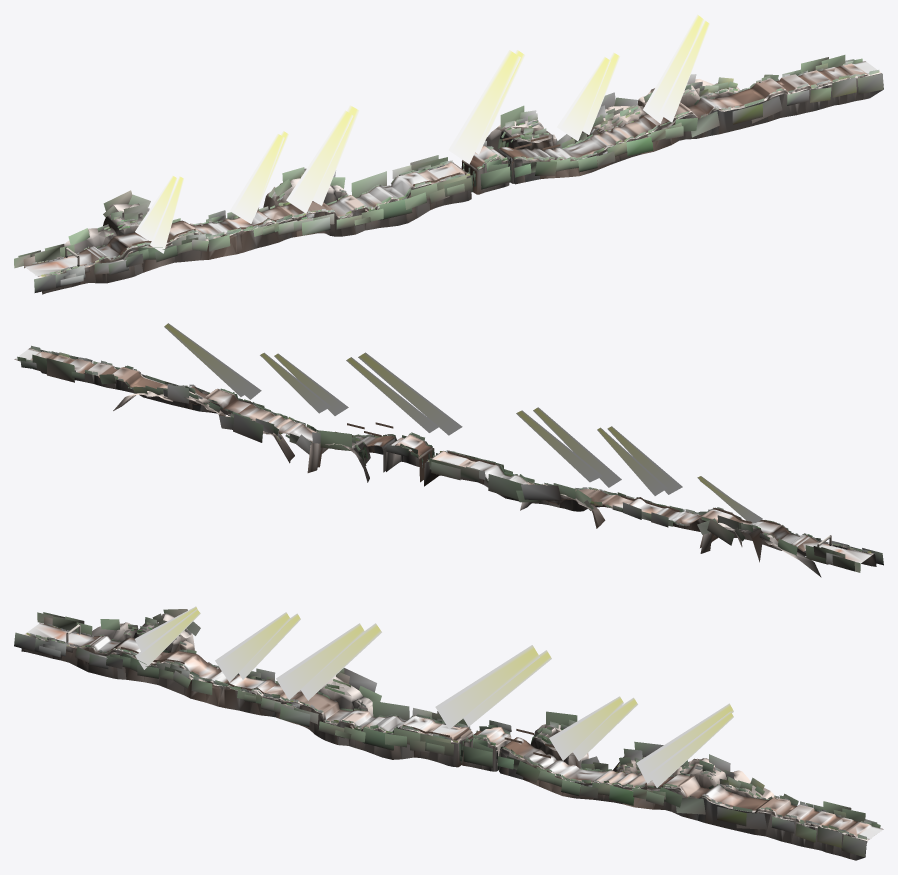
File: Forest_12.fbx
3 views of the same model, one above another, from view 1: azimuth 30°, elevation 25°; view 2: azimuth 150°, elevation 25°; view 3: azimuth 330°, elevation 25° (orthographic).
Visible parts, largest first — view 1: Tree_01, Mountain_01, Light_01, Ground_01; view 2: Tree_01, Light_01, Ground_01, Mountain_01, Leak_01; view 3: Tree_01, Light_01, Mountain_01, Ground_01.
Boxes of the visible parts, x1,y1,x2,y2 form: Tree_01: [14, 55, 883, 292]; Mountain_01: [39, 71, 883, 294]; Light_01: [135, 14, 709, 253]; Ground_01: [24, 61, 876, 276]; Tree_01: [17, 345, 883, 572]; Light_01: [164, 323, 762, 522]; Ground_01: [14, 349, 871, 563]; Mountain_01: [29, 347, 876, 577]; Leak_01: [335, 422, 776, 524]; Tree_01: [14, 609, 880, 857]; Light_01: [135, 606, 733, 787]; Mountain_01: [21, 613, 868, 860]; Ground_01: [26, 623, 883, 839].
Bounding box in the file's own units: 49371 × 7236 × 4161.
